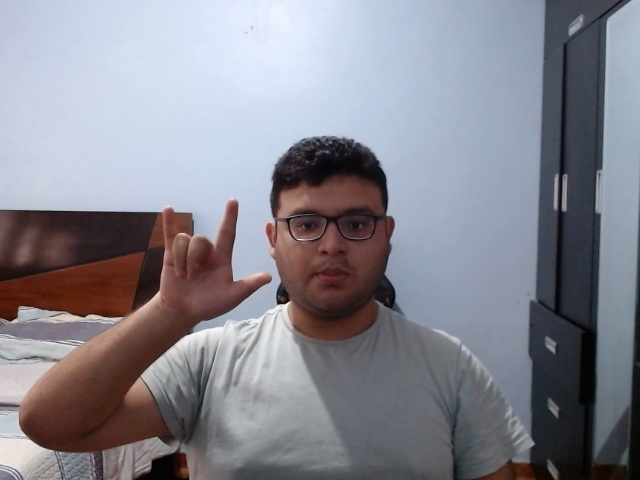I love you: (151, 195, 274, 328)
